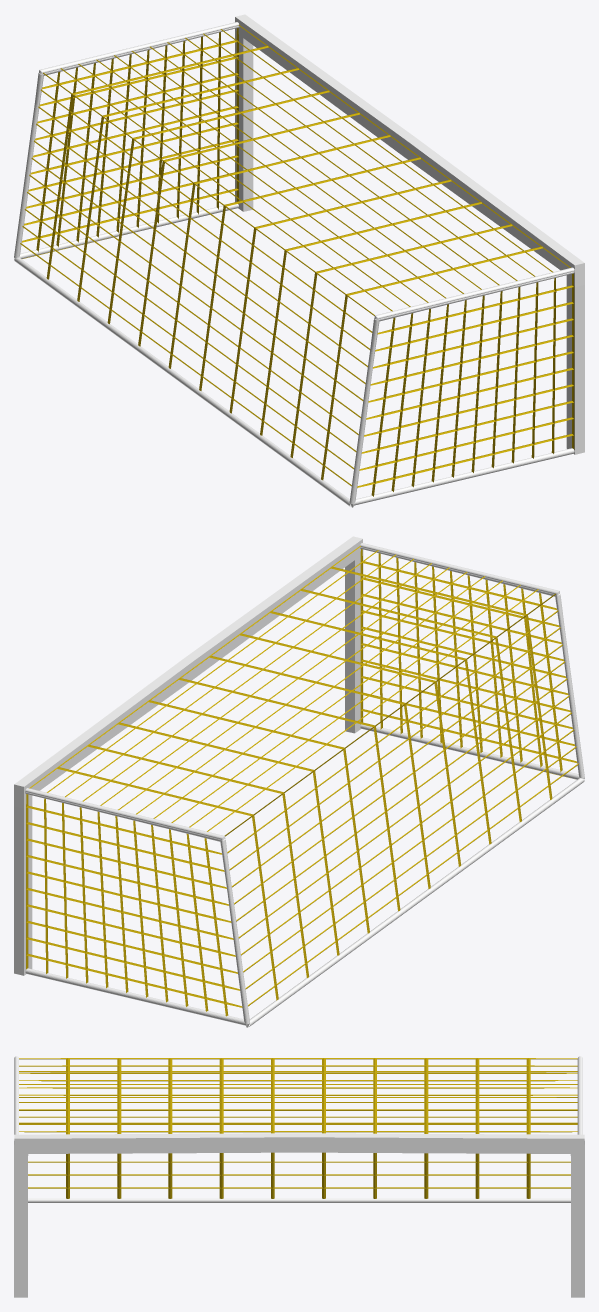
The model's file is water_polo_goal_FINAL.obj.
3 views of the same model, one above another, from view 1: azimuth 30°, elevation 25°; view 2: azimuth 150°, elevation 25°; view 3: azimuth 270°, elevation 25° (orthographic). The views are drawn at different scales.
Visible parts, largest first — view 1: Goal, Cube.002, Plane.001; view 2: Goal, Cube.002, Plane.001; view 3: Goal, Cube.002, Plane.001.
Part boxes in pixels (x1=…): Goal: x1=20, y1=25, x2=574, y2=496; Cube.002: x1=235, y1=14, x2=584, y2=454; Plane.001: x1=14, y1=22, x2=574, y2=507; Goal: x1=26, y1=546, x2=578, y2=1016; Cube.002: x1=14, y1=536, x2=363, y2=975; Plane.001: x1=25, y1=543, x2=584, y2=1027; Goal: x1=19, y1=1058, x2=577, y2=1198; Cube.002: x1=14, y1=1133, x2=584, y2=1297; Plane.001: x1=14, y1=1056, x2=582, y2=1202.
Size of the model in its own units: 1.21 by 0.943 by 3.04.
